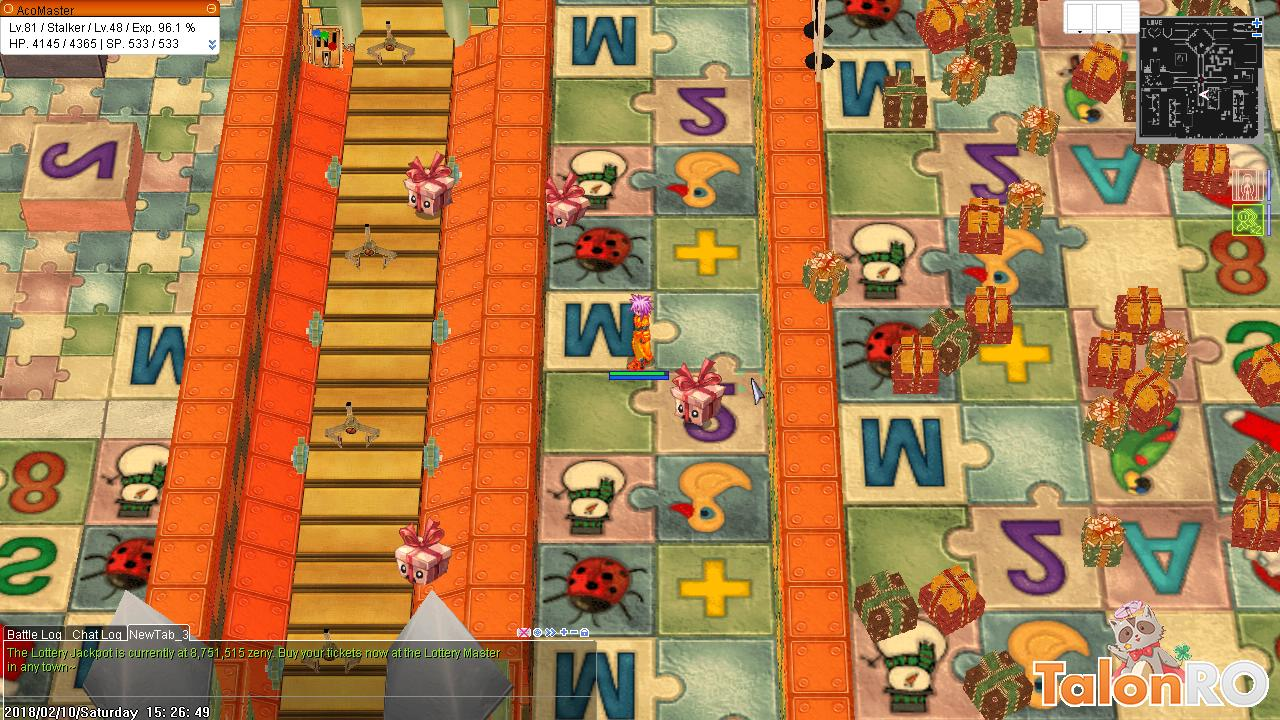myst_case: (394, 519, 450, 591), (402, 152, 457, 223), (671, 361, 728, 429), (536, 172, 586, 237)
